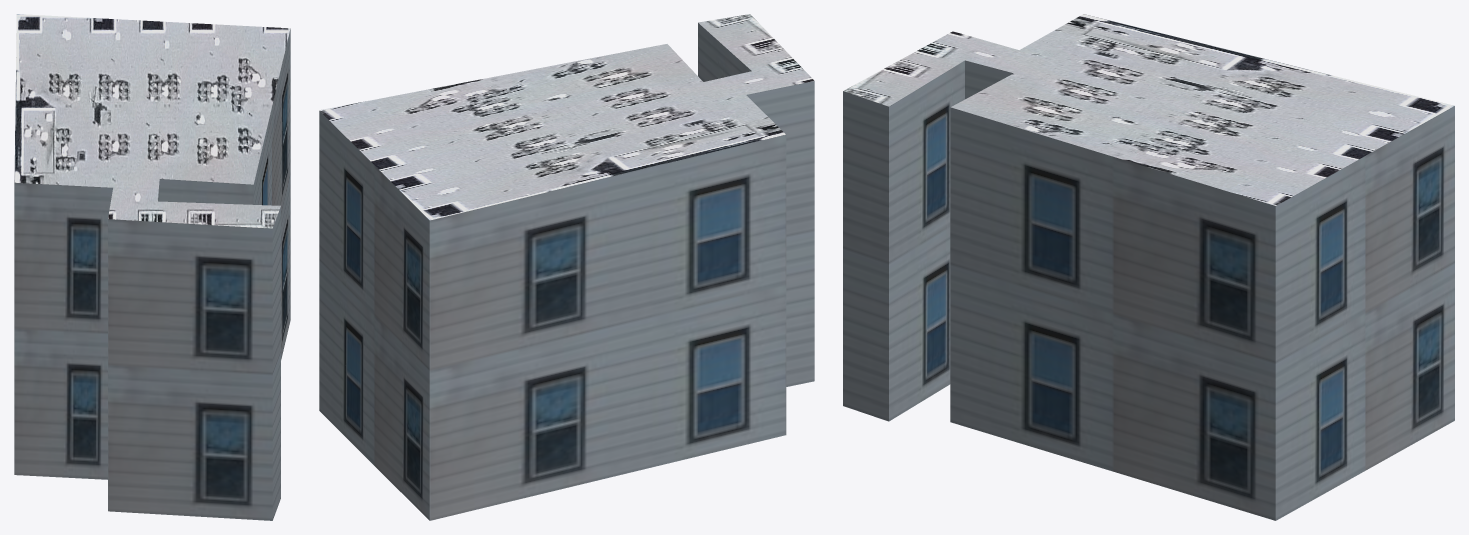
Rendered from ResTex__3925.fbx.
3 views of the same model, side by side, from view 1: azimuth 30°, elevation 25°; view 2: azimuth 150°, elevation 25°; view 3: azimuth 270°, elevation 25° (orthographic). The views are drawn at different scales.
Visible parts, largest first — view 1: CityEngineMaterial_18_m, CityEngineMaterial_8_m; view 2: CityEngineMaterial_18_m, CityEngineMaterial_8_m; view 3: CityEngineMaterial_18_m, CityEngineMaterial_8_m.
Boxes of the visible parts, x1,y1,x2,y2 form: CityEngineMaterial_18_m: [14, 29, 290, 520]; CityEngineMaterial_8_m: [14, 14, 290, 228]; CityEngineMaterial_18_m: [319, 23, 814, 520]; CityEngineMaterial_8_m: [319, 14, 814, 220]; CityEngineMaterial_18_m: [843, 60, 1454, 520]; CityEngineMaterial_8_m: [843, 14, 1454, 205].
Size of the model in its own units: 7.85 by 6 by 10.56.
Materials: 2 (2 with a texture image).
